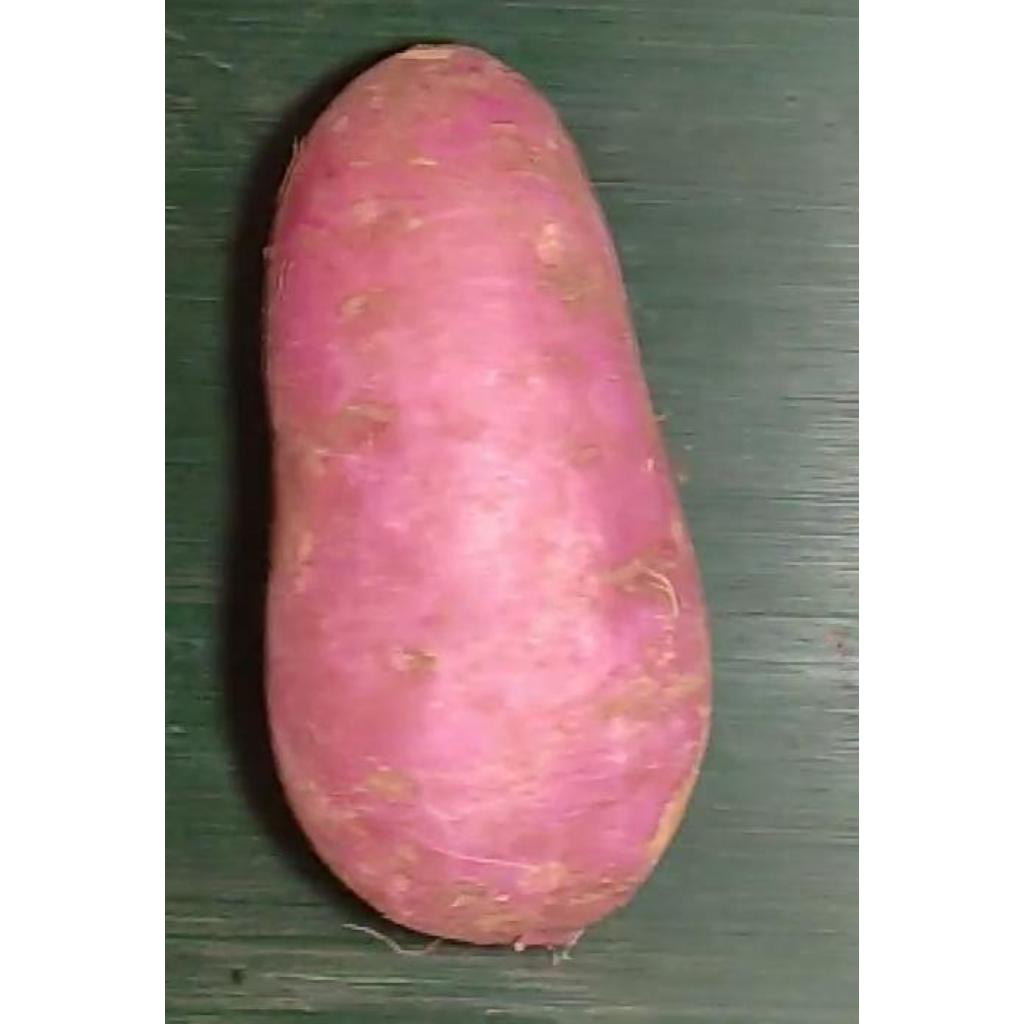Sweet Potato: (259, 43, 715, 952)
